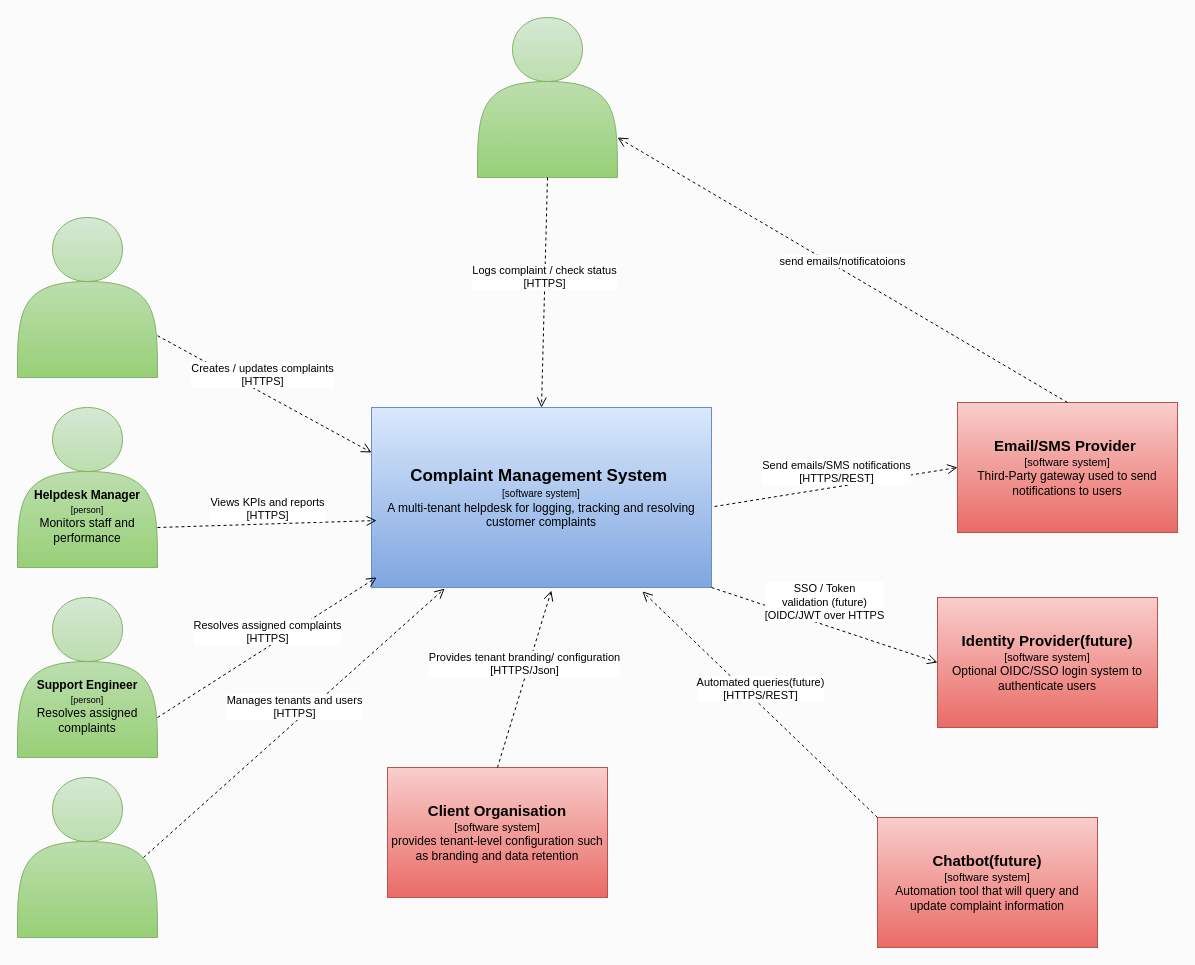
Image size: 1195x965. Some labels were removed from this diagram. The centre of each missing label's shape, as x and y in pixels:
Consumer [person] Reports complaints and check status: [547,97]
Helpdesk Agent [person] Logs complaint, assigns engineer, updates customers: [87,297]
system administrator [person] Manges users, roles and tenant configuration: [87,857]
